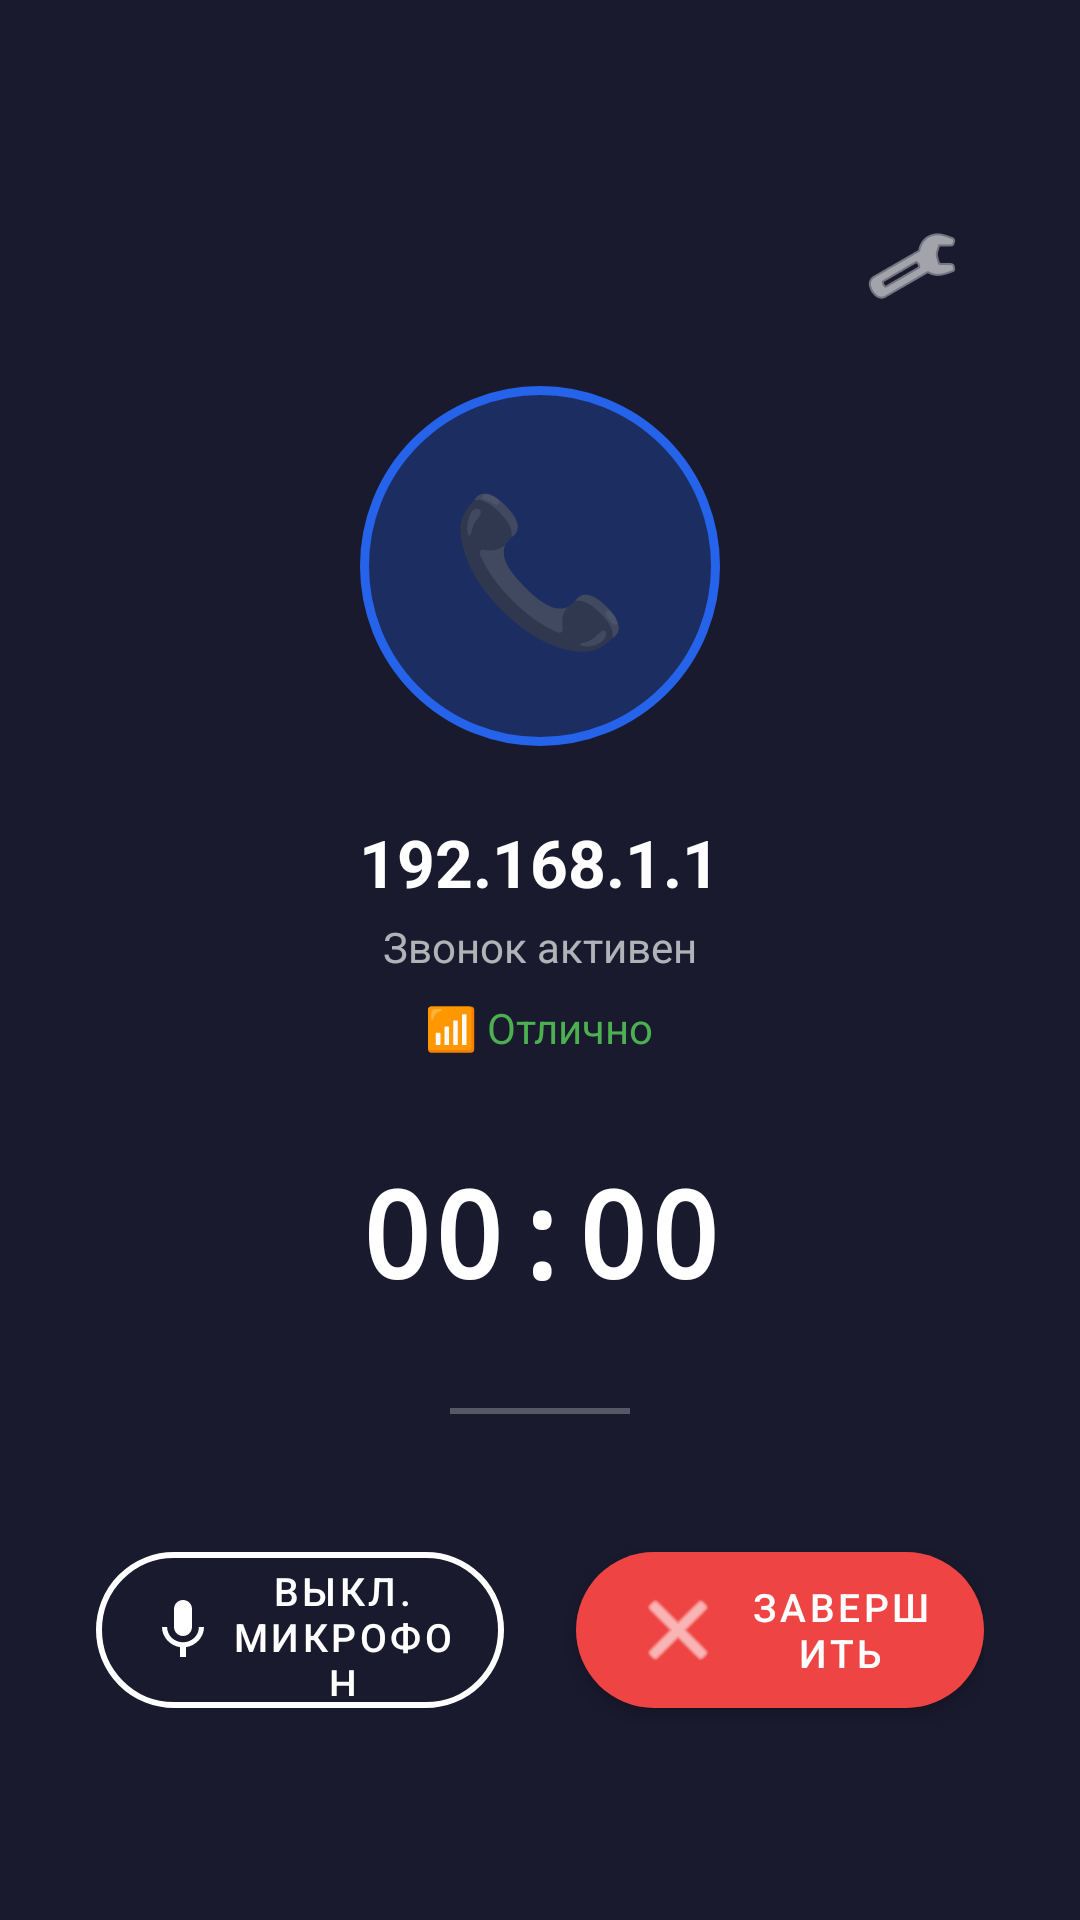

Screen size 1080w x 1920h. Icon name, then its box in pixels as [x1, y1, x2, y2]:
Настройки: [869, 233, 955, 299]
